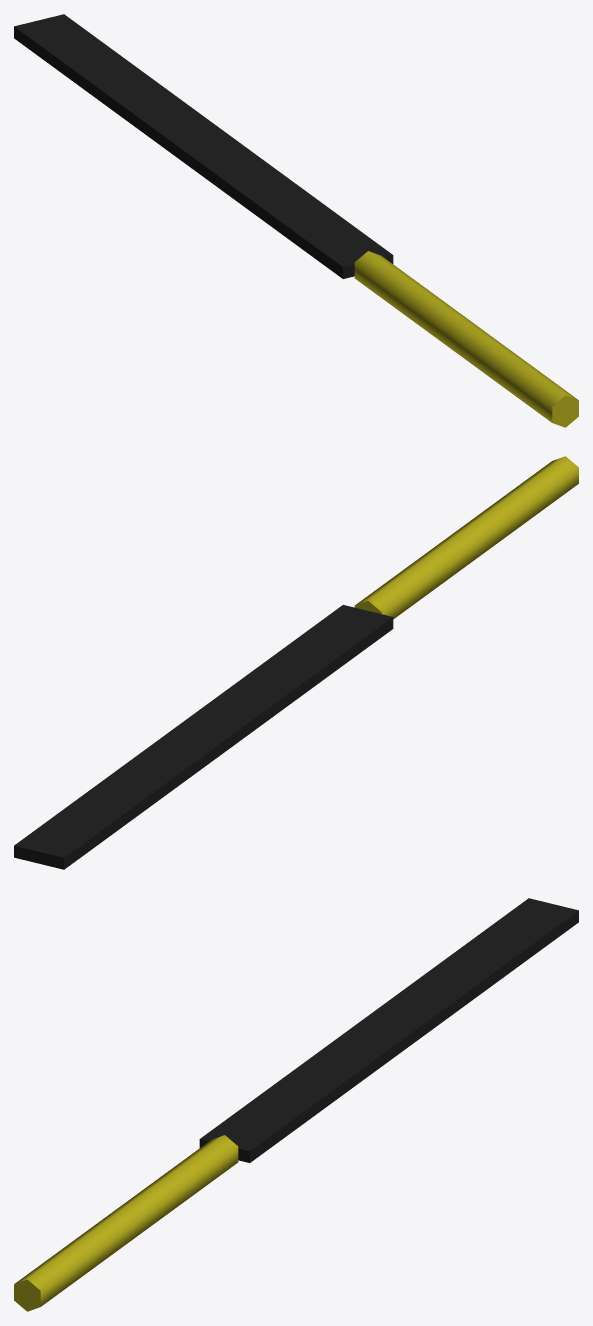
File: sanding_tool.fbx
The picture shows the model from 3 angles, top to bottom: view 1: azimuth 30°, elevation 25°; view 2: azimuth 150°, elevation 25°; view 3: azimuth 330°, elevation 25°; orthographic projection.
Parts seen in each view (by area): view 1: sanding_tool; view 2: sanding_tool; view 3: sanding_tool.
Boxes of the visible parts, <box> form: sanding_tool: <box>14,14,578,427</box>; sanding_tool: <box>14,456,578,869</box>; sanding_tool: <box>14,898,578,1311</box>.
Bounding box in the file's own units: 0.0088 × 0.16 × 0.00542.
